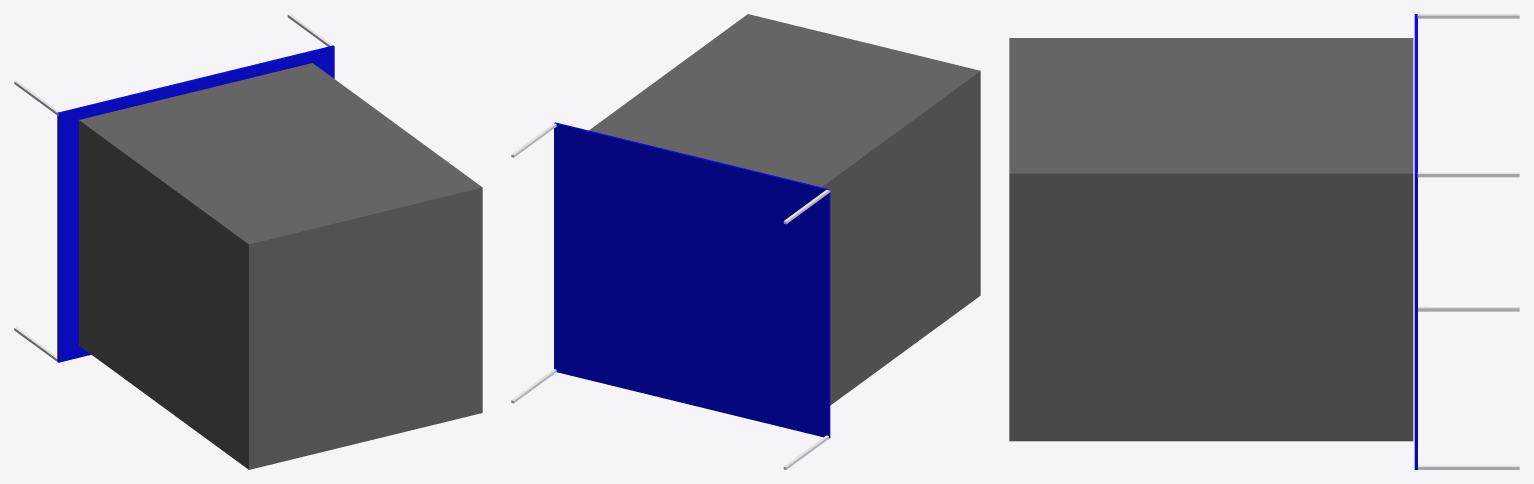
The model's file is loadedpallet.glb.
The picture shows the model from 3 angles, left to right: view 1: azimuth 30°, elevation 25°; view 2: azimuth 150°, elevation 25°; view 3: azimuth 270°, elevation 25°; orthographic projection. The views are drawn at different scales.
Parts seen in each view (by area): view 1: Obj_000006, mesh3d_005; view 2: Obj_000006, mesh3d_005; view 3: Obj_000006, mesh3d_005, mesh3d_002.
Part boxes in pixels (left/top/right/bottom): Obj_000006: left=79, top=63, right=482, bottom=469; mesh3d_005: left=57, top=45, right=334, bottom=362; Obj_000006: left=589, top=14, right=980, bottom=405; mesh3d_005: left=554, top=122, right=830, bottom=438; Obj_000006: left=1009, top=38, right=1413, bottom=441; mesh3d_005: left=1414, top=14, right=1417, bottom=469; mesh3d_002: left=1417, top=172, right=1519, bottom=177.
Bounding box in the file's own units: 12.59 × 10.85 × 16.97.
